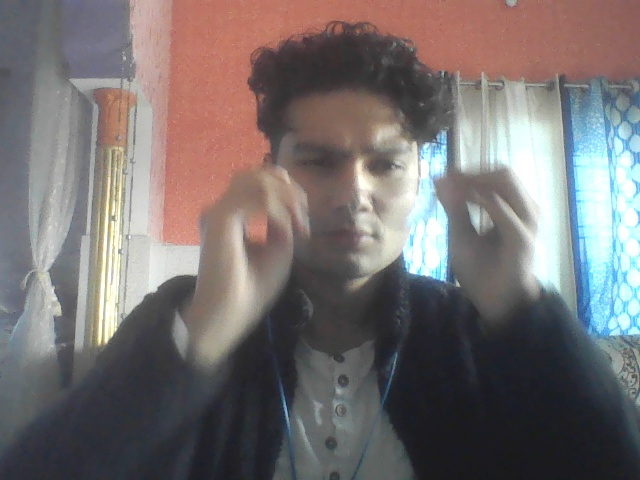real: (248, 24, 440, 296)
